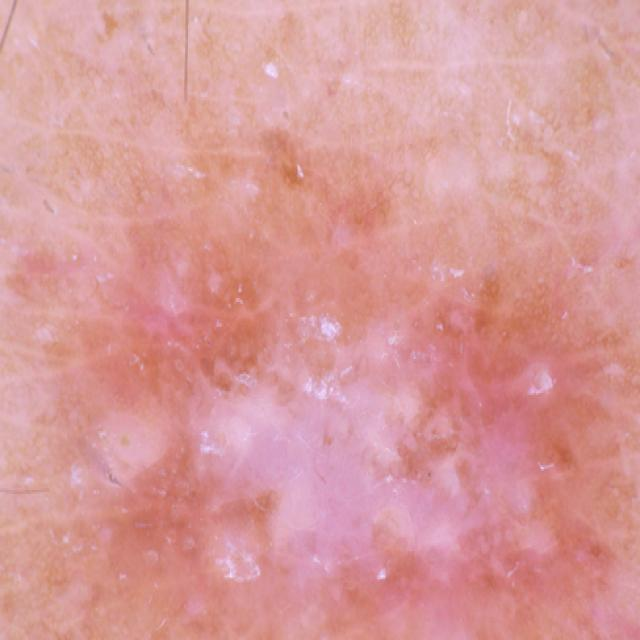Dermatofibroma: (56, 104, 640, 639)
